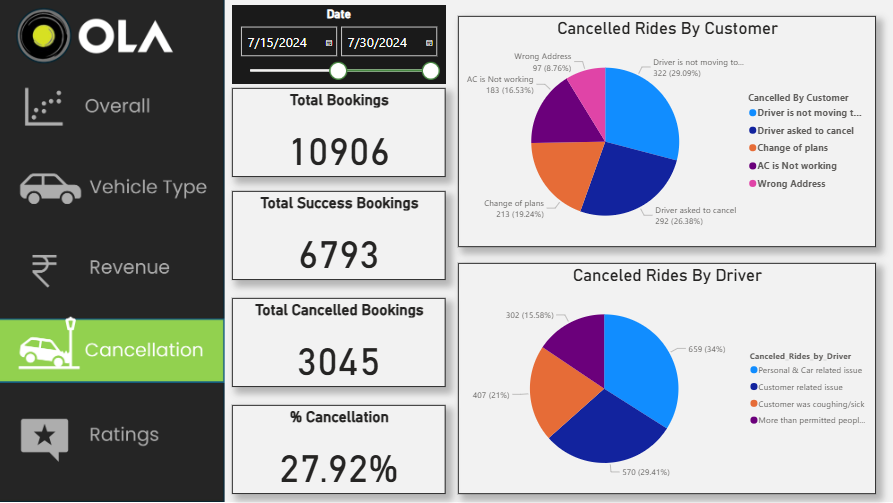

This screenshot's page, from the dashboard's own definition file:
{"tool":"powerbi","page":{"name":"Cancellation","canvas":[1280,720],"ordinal":3},"visuals":[{"type":"actionButton","box":[0,220,323.3,88.3],"z":0},{"type":"actionButton","box":[0,111.7,323.3,88.3],"z":1000},{"type":"actionButton","box":[0,336.7,323.3,88.3],"z":2000},{"type":"actionButton","box":[0,455,323.3,88.3],"z":3000},{"type":"actionButton","box":[0,578.3,323.3,88.3],"z":4000},{"type":"slicer","title":"Date","fields":{"Values":["July.Date"]},"box":[335,6.7,305,111.7],"z":5000},{"type":"pieChart","title":"Cancelled Rides By Customer","fields":{"Category":["July.Canceled_Rides_by_Customer"],"Y":["CountNonNull(July.Date)"]},"box":[656.7,23.3,596.7,330],"z":6000},{"type":"pieChart","title":"Canceled Rides By Driver","fields":{"Category":["July.Canceled_Rides_by_Driver"],"Y":["CountNonNull(July.Date)"]},"box":[656.7,375,596.7,330],"z":7000},{"type":"cardVisual","title":"Total Bookings","fields":{"Data":["Count(July.Booking_ID)"]},"box":[335,125,305,126.7],"z":8000},{"type":"cardVisual","title":"Total Success Bookings","fields":{"Data":["Count(July.Booking_ID)"]},"box":[335,273.3,305,126.7],"z":9000},{"type":"cardVisual","title":"Total Cancelled Bookings","fields":{"Data":["Count(July.Booking_ID)"]},"box":[335,425,305,126.7],"z":10000},{"type":"cardVisual","title":"% Cancellation","fields":{"Data":["July.percentage_cancelled"]},"box":[335,578.3,305,126.7],"z":11000}]}

Visuals, with their boxes on the page's 1280x720 design canvas (x1, y1, x2, y2). These are canvas units, not pixel positions in the 893x503 screenshot, which may show the page scaled, cropped or inside an application window:
actionButton: bbox=(0, 220, 323, 308)
actionButton: bbox=(0, 112, 323, 200)
actionButton: bbox=(0, 337, 323, 425)
actionButton: bbox=(0, 455, 323, 543)
actionButton: bbox=(0, 578, 323, 667)
"Date" slicer: bbox=(335, 7, 640, 118)
"Cancelled Rides By Customer" pieChart: bbox=(657, 23, 1253, 353)
"Canceled Rides By Driver" pieChart: bbox=(657, 375, 1253, 705)
"Total Bookings" cardVisual: bbox=(335, 125, 640, 252)
"Total Success Bookings" cardVisual: bbox=(335, 273, 640, 400)
"Total Cancelled Bookings" cardVisual: bbox=(335, 425, 640, 552)
"% Cancellation" cardVisual: bbox=(335, 578, 640, 705)
